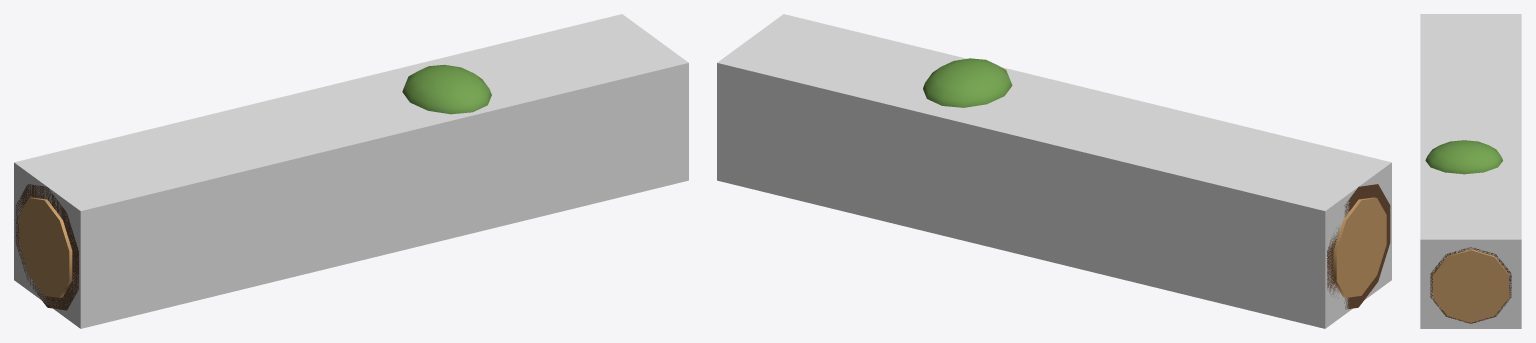
The model's file is tronco_caido.glb.
3 renders of one model, left to right at view 1: azimuth 30°, elevation 25°; view 2: azimuth 150°, elevation 25°; view 3: azimuth 270°, elevation 25°, orthographic. The views are drawn at different scales.
Visible parts, largest first — view 1: COL_0, tronco_caido_Malla; view 2: COL_0, tronco_caido_Malla; view 3: COL_0, tronco_caido_Malla.
Part boxes in pixels (x1,y1,x2,y2): COL_0: (14, 14, 688, 328); tronco_caido_Malla: (15, 64, 491, 310); COL_0: (717, 14, 1391, 328); tronco_caido_Malla: (923, 58, 1390, 309); COL_0: (1420, 14, 1521, 328); tronco_caido_Malla: (1425, 140, 1511, 323).
Bounding box in the file's own units: 4.04 × 0.89 × 0.76.
